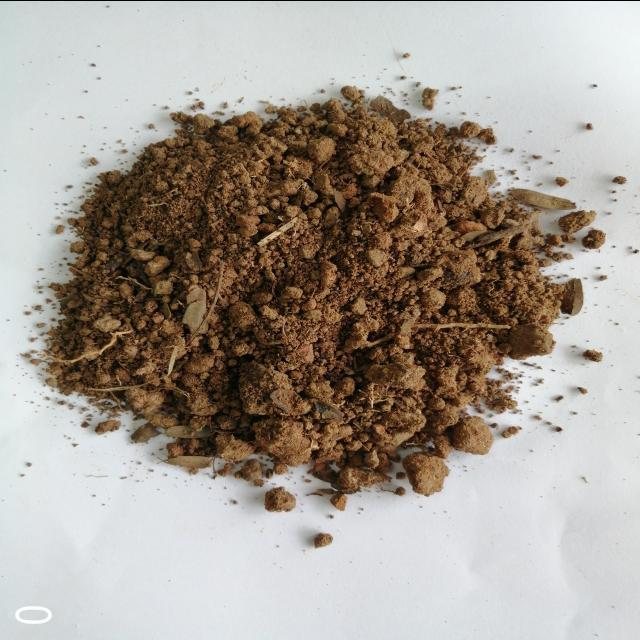soil: (134, 190, 482, 404)
